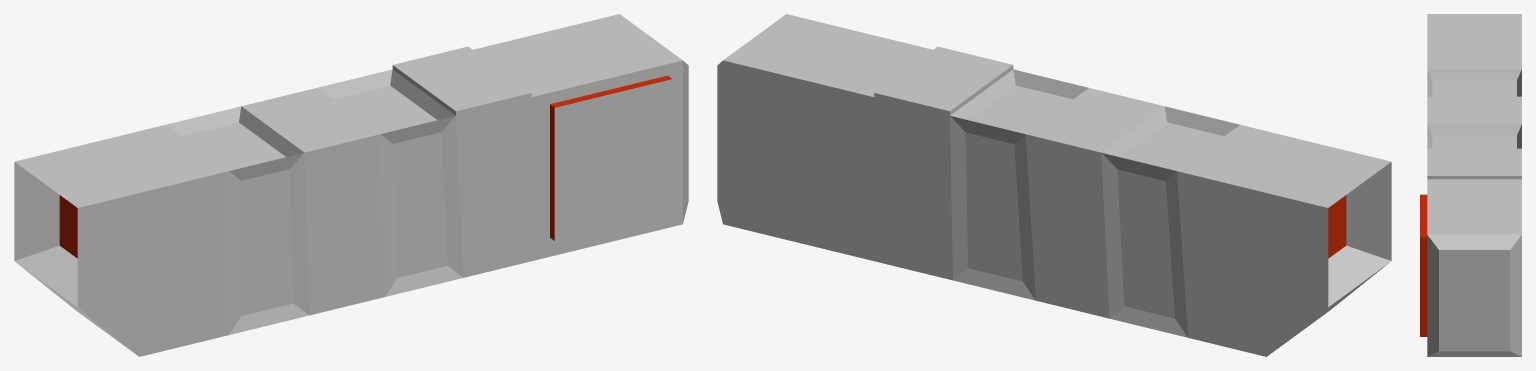
The model's file is flashlight2.obj.
The picture shows the model from 3 angles, left to right: view 1: azimuth 30°, elevation 25°; view 2: azimuth 150°, elevation 25°; view 3: azimuth 270°, elevation 25°; orthographic projection. The views are drawn at different scales.
Parts seen in each view (by area): view 1: Cube; view 2: Cube; view 3: Cube.
Part boxes in pixels (bbox=[...]): Cube: bbox=[14, 14, 688, 356]; Cube: bbox=[717, 14, 1391, 356]; Cube: bbox=[1420, 14, 1521, 356].
Size of the model in its own units: 2.65 by 0.6902 by 0.5066.
